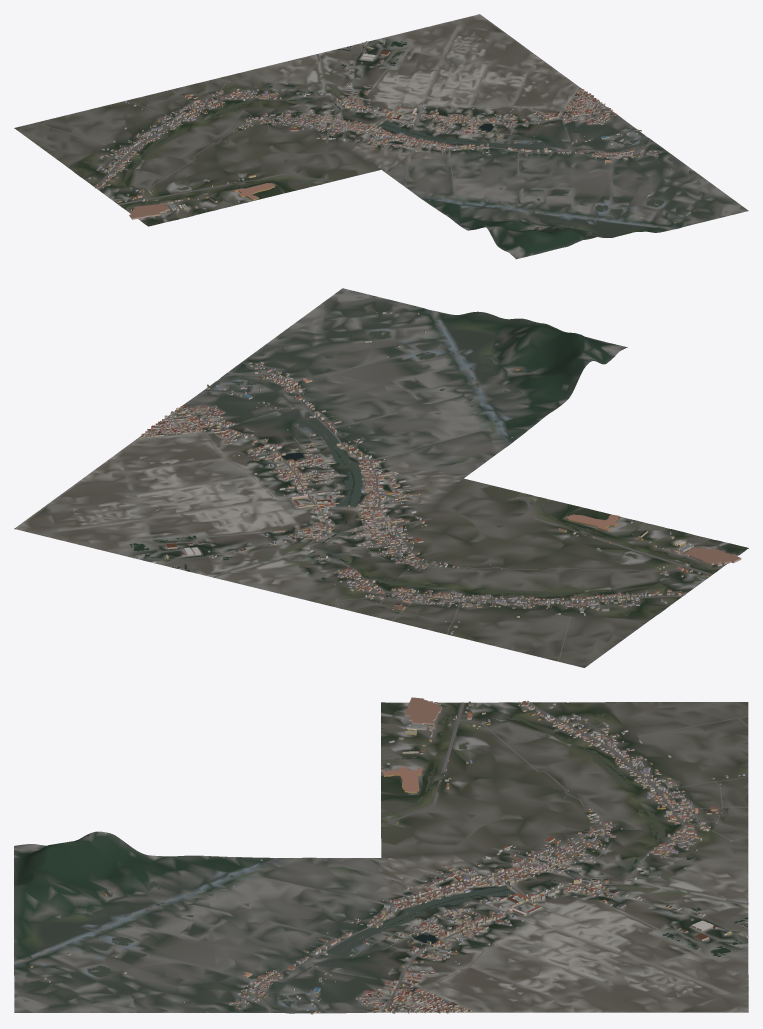
3 renders of one model, top to bottom at view 1: azimuth 30°, elevation 25°; view 2: azimuth 150°, elevation 25°; view 3: azimuth 270°, elevation 25°, orthographic. The views are drawn at different scales.
Visible parts, largest first — view 1: ground, buildings, roads, water; view 2: ground, buildings, roads, water; view 3: ground, buildings, roads, water.
Boxes of the visible parts, x1,y1,x2,y2 form: ground: (14,14,748,259); buildings: (88,41,694,229); roads: (36,14,731,217); water: (75,41,671,228); ground: (14,288,748,667); buildings: (139,311,741,634); roads: (15,303,712,661); water: (130,313,743,616); ground: (14,702,748,1013); buildings: (30,697,748,1014); roads: (59,702,748,1013); water: (21,702,748,1010).
Bounding box in the file's own units: 2848 × 130 × 2806.
